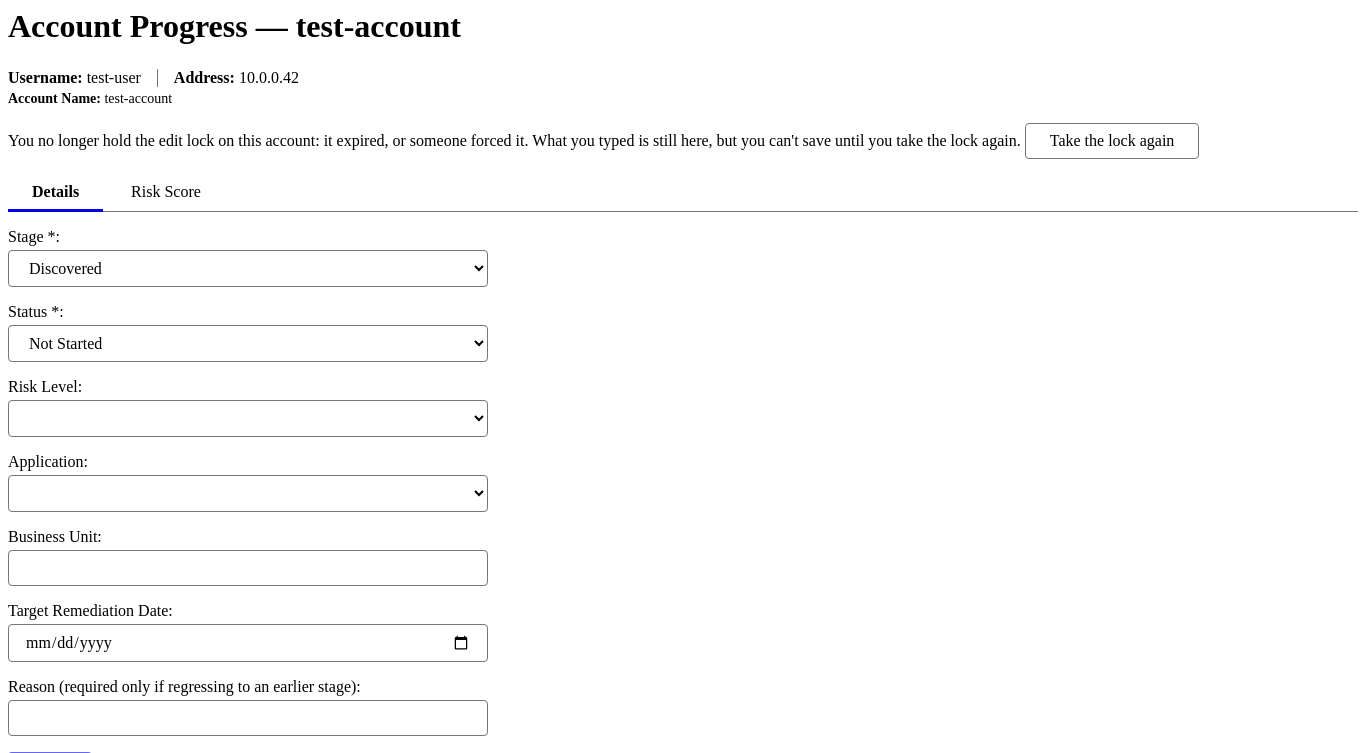
Test: AccountProgressDetail.vue: a lost edit lock (UI review W2-3) › Take the lock again gets Save back without reloading
Click the button "Take the lock again" at (1112, 141), box [1025,123,1199,159]
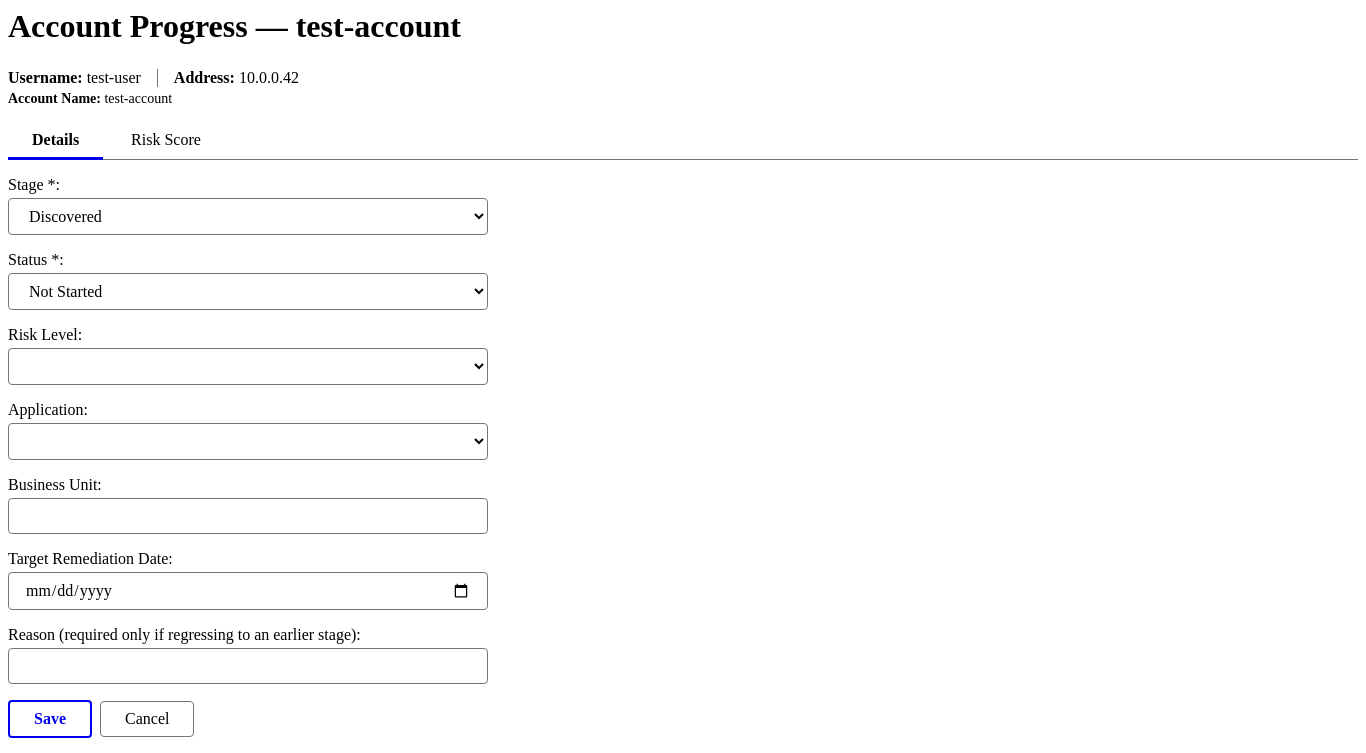
Expected: the text "You no longer hold the edit lock" is gone
Expected: the submit button is enabled, [8,700,92,738]
